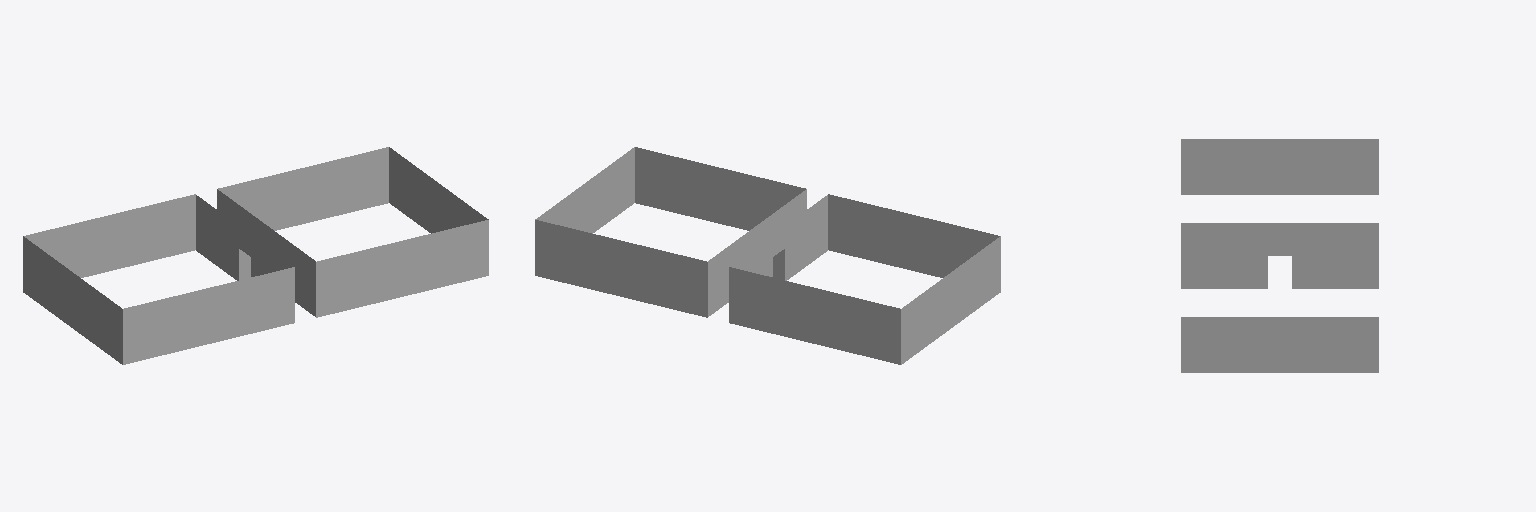
Rendered from test 3 walls.obj.
The picture shows the model from 3 angles: view 1: azimuth 30°, elevation 25°; view 2: azimuth 150°, elevation 25°; view 3: azimuth 270°, elevation 25°; orthographic projection.
Visible parts, largest first — view 1: Plane.002; view 2: Plane.002; view 3: Plane.002.
Part boxes in pixels (x1,y1,x2,y2): Plane.002: (23,147,488,364); Plane.002: (535,147,1000,364); Plane.002: (1181,139,1378,372).
Size of the model in its own units: 34 by 5 by 16.